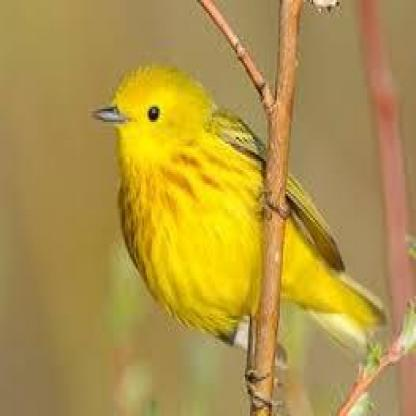other: (105, 38, 385, 357)
